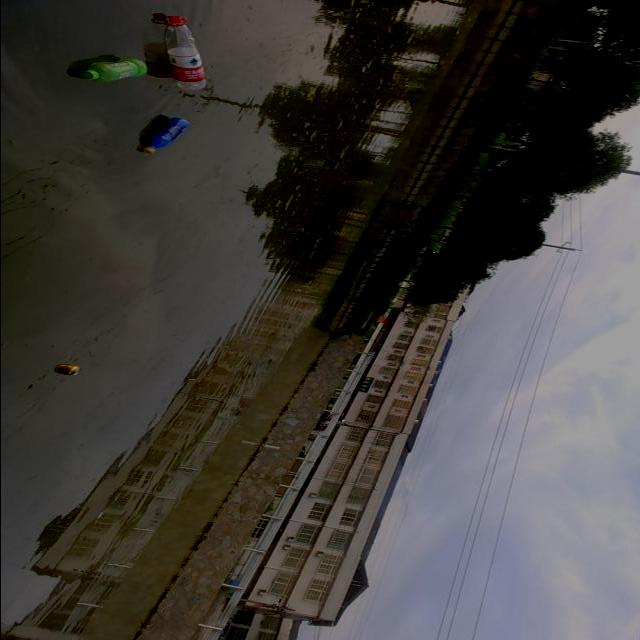bottle: (155, 1, 215, 104), (135, 106, 202, 170), (69, 51, 149, 93)
